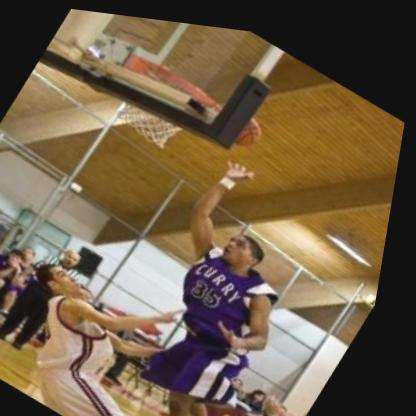basketball: (219, 94, 278, 151)
